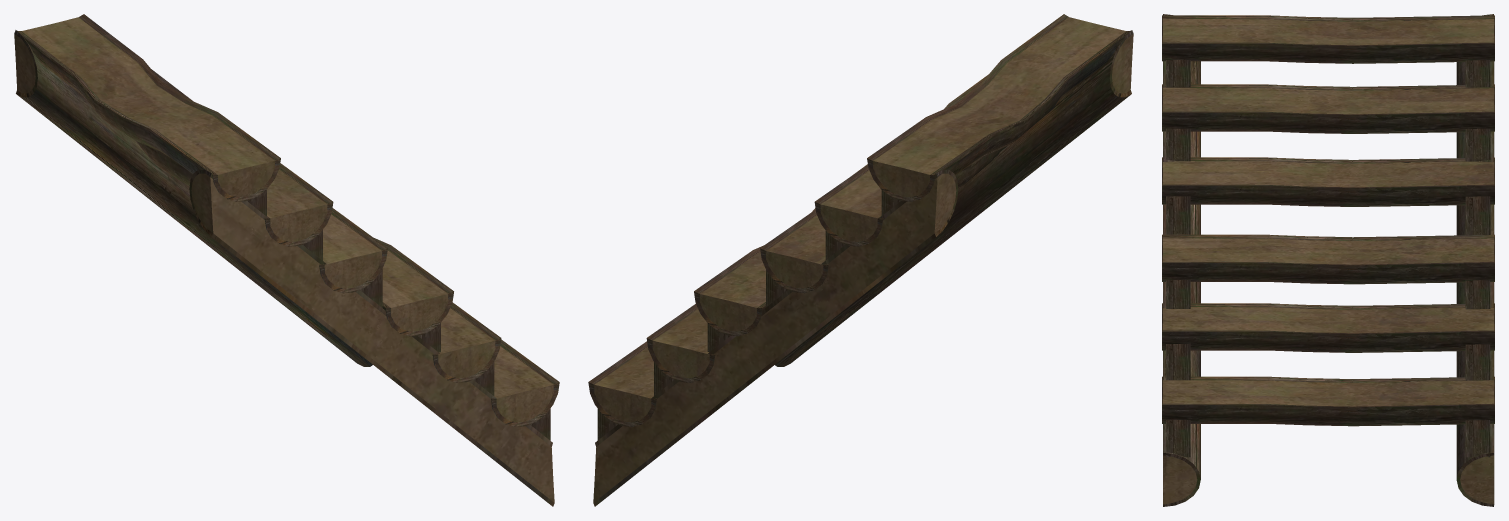
The picture shows the model from 3 angles, left to right: view 1: azimuth 30°, elevation 25°; view 2: azimuth 150°, elevation 25°; view 3: azimuth 270°, elevation 25°; orthographic projection. The views are drawn at different scales.
Visible parts, largest first — view 1: SM_BB_T1_Stairs_Straight_LOD0; view 2: SM_BB_T1_Stairs_Straight_LOD0; view 3: SM_BB_T1_Stairs_Straight_LOD0.
Boxes of the visible parts, <box> form: SM_BB_T1_Stairs_Straight_LOD0: <box>14,14,559,506</box>; SM_BB_T1_Stairs_Straight_LOD0: <box>588,14,1133,506</box>; SM_BB_T1_Stairs_Straight_LOD0: <box>1162,14,1494,506</box>.
Size of the model in its own units: 1.56 by 1.76 by 1.51.
1 material, 1 textured.
